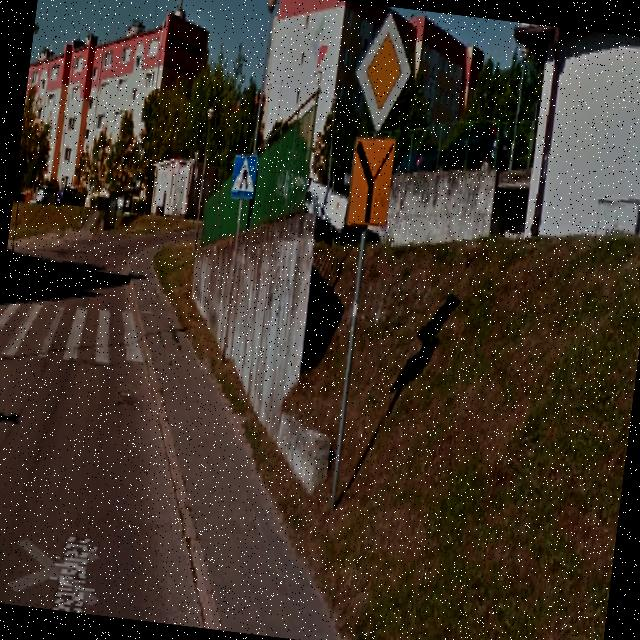Droga z pierwszenstwem: (346, 8, 420, 132)
Przejscie dla pieszych: (228, 150, 262, 200)
